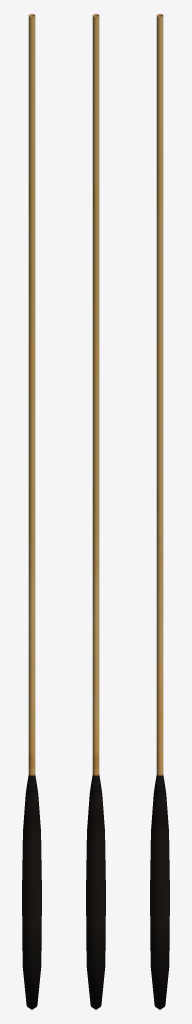
The model's file is toyfireworks_subote.FBX.
3 renders of one model, left to right at view 1: azimuth 90°, elevation 25°; view 2: azimuth 150°, elevation 25°; view 3: azimuth 330°, elevation 25°, orthographic.
Visible parts, largest first — view 1: toyfireworks_subote; view 2: toyfireworks_subote; view 3: toyfireworks_subote.
Part boxes in pixels (x1,y1,x2,y2): toyfireworks_subote: (22, 14, 41, 1009); toyfireworks_subote: (86, 14, 105, 1009); toyfireworks_subote: (150, 14, 169, 1009).
Size of the model in its own units: 1.88 by 103 by 1.88.
